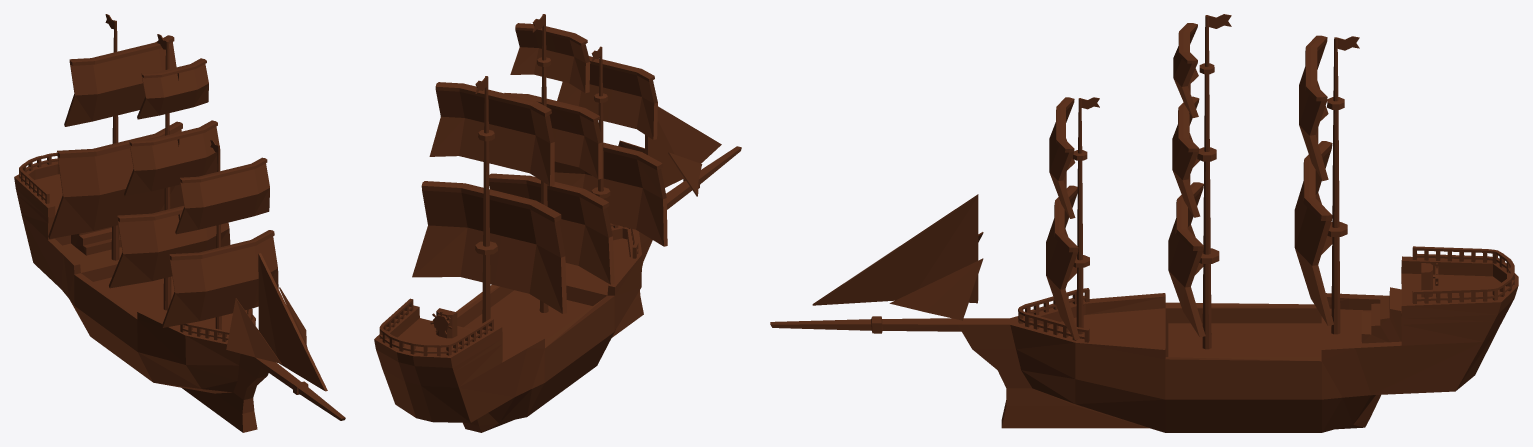
The model's file is sail_ship.glb.
The picture shows the model from 3 angles, left to right: view 1: azimuth 30°, elevation 25°; view 2: azimuth 150°, elevation 25°; view 3: azimuth 270°, elevation 25°; orthographic projection. The views are drawn at different scales.
Visible parts, largest first — view 1: BigShip_Cylinder, BackSail_Cylinder.005, MidleSail_Cylinder.001, Front_Sail_Cylinder.004; view 2: BigShip_Cylinder, BackSail_Cylinder.005, MidleSail_Cylinder.001, Front_Sail_Cylinder.004; view 3: BigShip_Cylinder, BackSail_Cylinder.005, MidleSail_Cylinder.001, Front_Sail_Cylinder.004.
Boxes of the visible parts, box(x1,y1,x2,y2) form: BigShip_Cylinder: box(14, 14, 345, 432); BackSail_Cylinder.005: box(48, 35, 183, 238); MidleSail_Cylinder.001: box(109, 58, 230, 288); Front_Sail_Cylinder.004: box(162, 157, 278, 327); BigShip_Cylinder: box(374, 14, 741, 432); BackSail_Cylinder.005: box(412, 82, 566, 313); MidleSail_Cylinder.001: box(489, 23, 614, 284); Front_Sail_Cylinder.004: box(554, 56, 667, 246); BigShip_Cylinder: box(770, 14, 1518, 432); BackSail_Cylinder.005: box(1294, 35, 1333, 325); MidleSail_Cylinder.001: box(1168, 23, 1205, 337); Front_Sail_Cylinder.004: box(1046, 97, 1079, 339).
Size of the model in its own units: 1.7 by 3.85 by 6.38.
